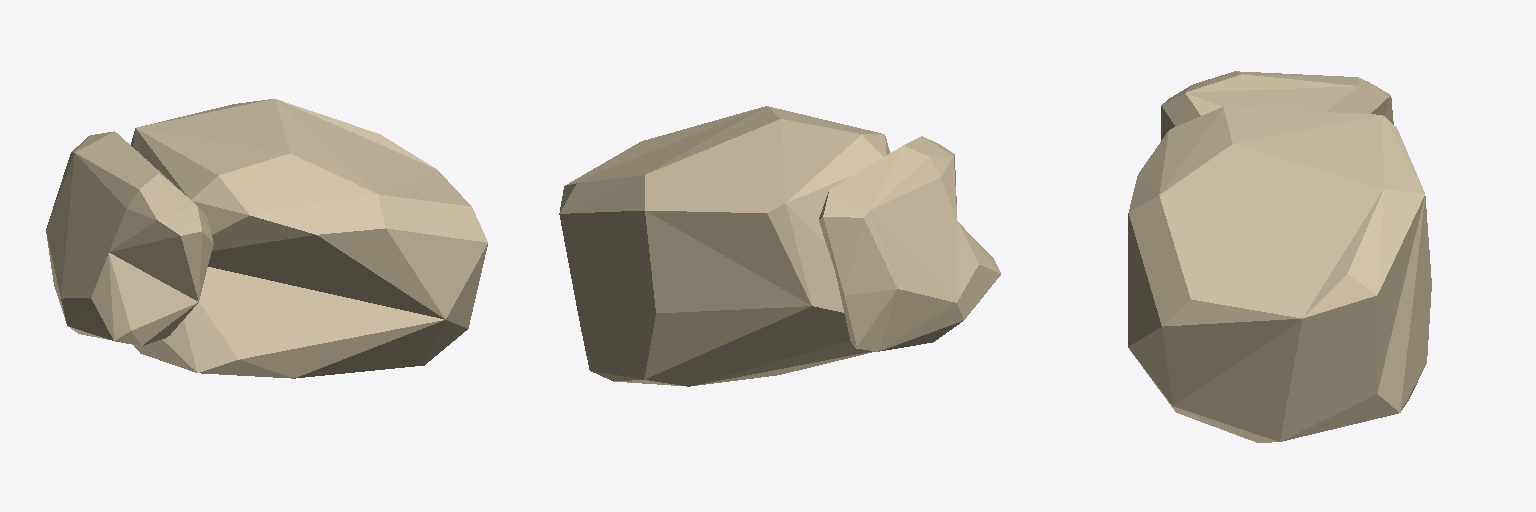
3 renders of one model, left to right at view 1: azimuth 30°, elevation 25°; view 2: azimuth 150°, elevation 25°; view 3: azimuth 270°, elevation 25°, orthographic.
Parts seen in each view (by area): view 1: 右手; view 2: 右手; view 3: 右手.
Boxes of the visible parts, x1=… form: 右手: x1=46, y1=99, x2=487, y2=378; 右手: x1=559, y1=106, x2=1000, y2=386; 右手: x1=1128, y1=71, x2=1431, y2=442.
Bounding box in the file's own units: 0.9492 × 0.5889 × 0.649.
Materials: 1 (1 with a texture image).